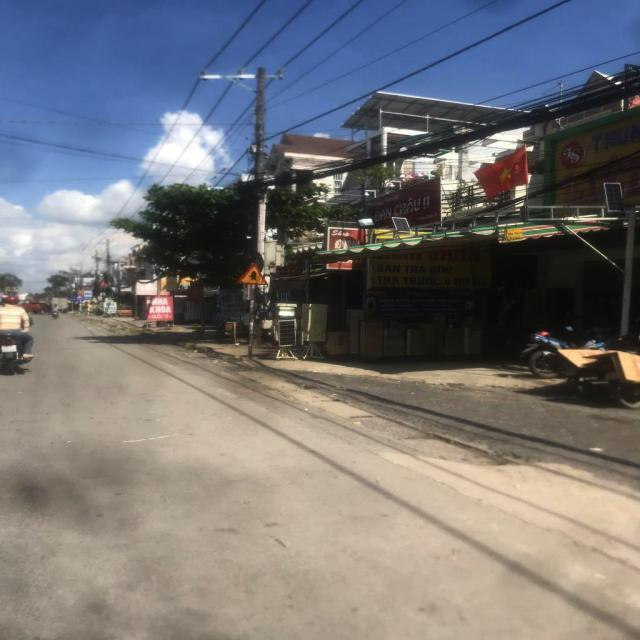207-giao-nhau-voi-duong-khong-uu-tien: (236, 264, 268, 286)
442-cho: (78, 294, 84, 300)
